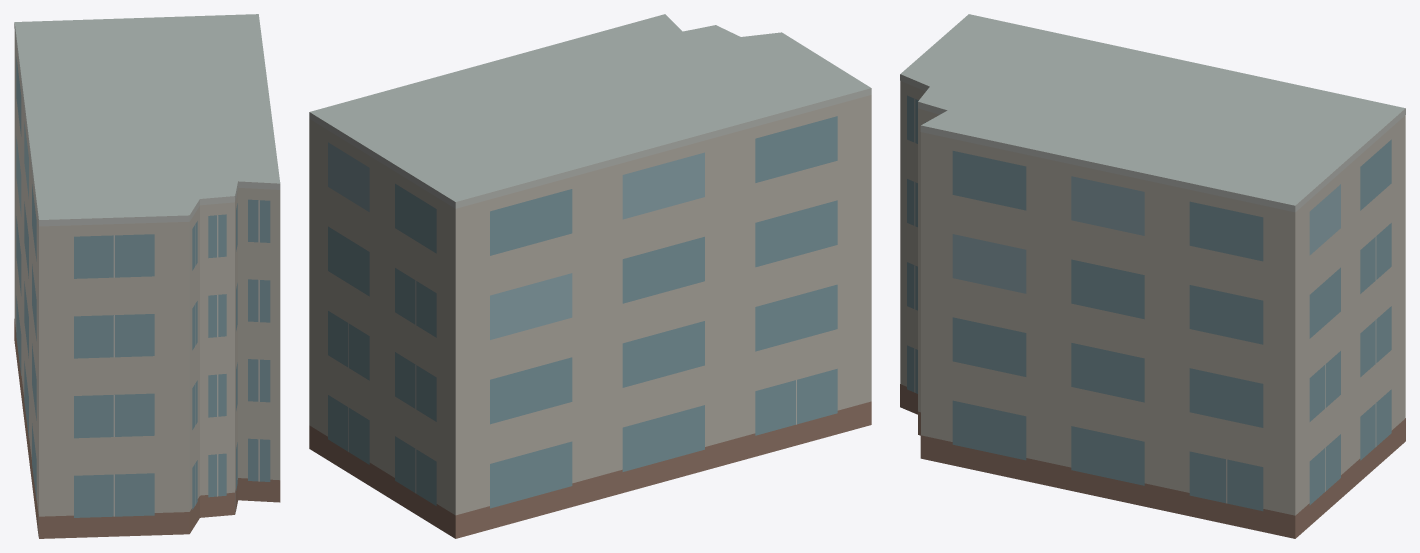
Rendered from survey-upis-33019393.glb.
3 renders of one model, left to right at view 1: azimuth 30°, elevation 25°; view 2: azimuth 150°, elevation 25°; view 3: azimuth 270°, elevation 25°, orthographic. The views are drawn at different scales.
Parts seen in each view (by area): view 1: survey-upis-33019393.tmp; view 2: survey-upis-33019393.tmp; view 3: survey-upis-33019393.tmp.
Boxes of the visible parts, <box> form: survey-upis-33019393.tmp: <box>14,14,280,538</box>; survey-upis-33019393.tmp: <box>309,14,871,538</box>; survey-upis-33019393.tmp: <box>900,14,1405,538</box>.
Size of the model in its own units: 15.07 by 12.2 by 16.79.
